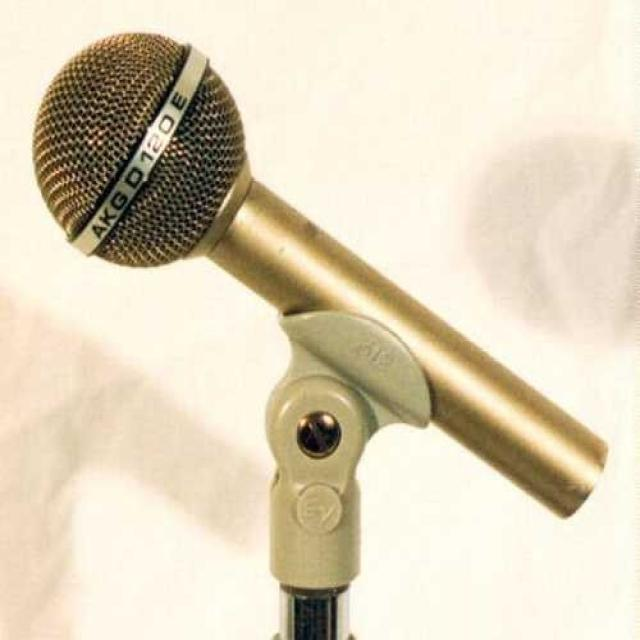microphone: (5, 0, 542, 459)
